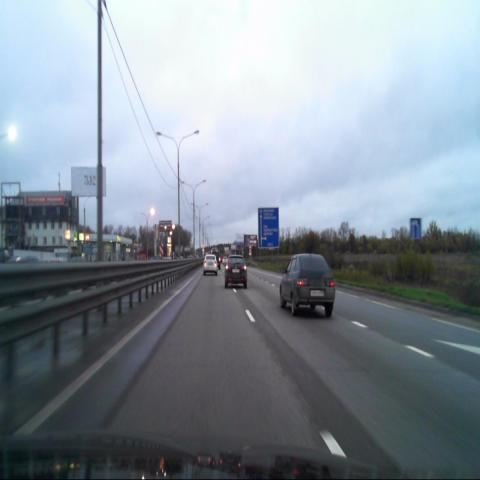5_15_5: (409, 217, 421, 239)
